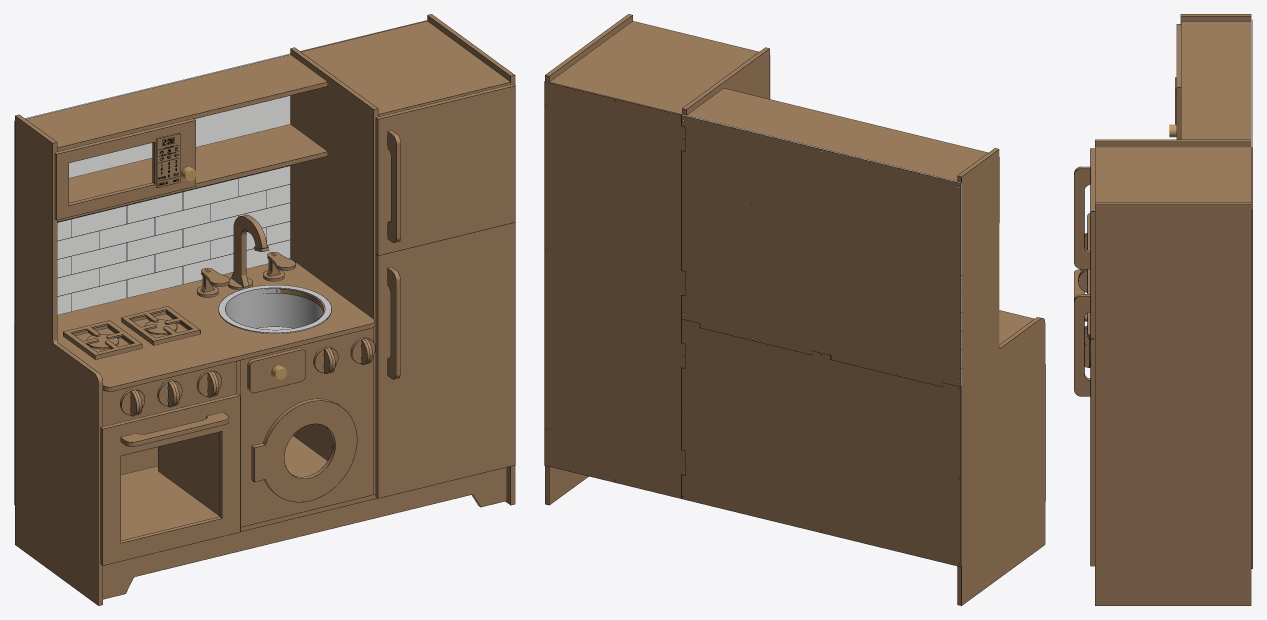
File: modelo-ar.glb
3 views of the same model, side by side, from view 1: azimuth 30°, elevation 25°; view 2: azimuth 150°, elevation 25°; view 3: azimuth 270°, elevation 25° (orthographic). The views are drawn at different scales.
Visible parts, largest first — view 1: Pta Heladera Inf, lateral izq, fondo alzada, Pta Heladera Sup, lateral med, Tapa, Frente Lavarropas, base alzada, estante heladera, Pta Horno, zocalo, techo alzada (+26 smaller); view 2: fondo alzada, fondo heladera, fondo bajo, lateral izq, estante heladera, base alzada, lateral med, lateral der, fondo heladera_Bordes, fondo bajo_Bordes, fondo alzada_Bordes, lateral izq_Bordes; view 3: lateral der, estante heladera, base alzada, manija 2 (1), manija 2, lateral der_Bordes, lateral med, Pta Heladera Inf, fondo heladera, Pta Heladera Sup, lateral izq, Pta Alzada (+5 smaller).
Boxes of the visible parts, x1=… form: Pta Heladera Inf: x1=376, y1=222, x2=515, y2=498; lateral izq: x1=15, y1=115, x2=102, y2=605; fondo alzada: x1=14, y1=54, x2=290, y2=324; Pta Heladera Sup: x1=376, y1=84, x2=515, y2=255; lateral med: x1=290, y1=48, x2=377, y2=494; Tapa: x1=57, y1=258, x2=374, y2=391; Frente Lavarropas: x1=240, y1=327, x2=373, y2=526; base alzada: x1=26, y1=54, x2=327, y2=151; estante heladera: x1=301, y1=21, x2=510, y2=116; Pta Horno: x1=100, y1=394, x2=239, y2=565; zocalo: x1=103, y1=467, x2=506, y2=598; techo alzada: x1=57, y1=124, x2=327, y2=221; fondo alzada: x1=681, y1=114, x2=961, y2=386; fondo heladera: x1=544, y1=81, x2=685, y2=498; fondo bajo: x1=681, y1=319, x2=961, y2=566; lateral izq: x1=957, y1=148, x2=1044, y2=605; estante heladera: x1=550, y1=21, x2=758, y2=114; base alzada: x1=687, y1=88, x2=987, y2=181; lateral med: x1=682, y1=47, x2=769, y2=115; lateral der: x1=545, y1=14, x2=632, y2=504; fondo heladera_Bordes: x1=544, y1=81, x2=685, y2=498; fondo bajo_Bordes: x1=681, y1=318, x2=961, y2=566; fondo alzada_Bordes: x1=681, y1=114, x2=961, y2=386; lateral izq_Bordes: x1=957, y1=148, x2=1045, y2=605; lateral der: x1=1095, y1=202, x2=1250, y2=605; estante heladera: x1=1095, y1=147, x2=1250, y2=202; base alzada: x1=1181, y1=21, x2=1250, y2=139; manija 2 (1): x1=1074, y1=294, x2=1090, y2=396; manija 2: x1=1074, y1=166, x2=1090, y2=268; lateral der_Bordes: x1=1095, y1=202, x2=1251, y2=605; lateral med: x1=1095, y1=140, x2=1250, y2=147; Pta Heladera Inf: x1=1091, y1=339, x2=1094, y2=565; fondo heladera: x1=1251, y1=147, x2=1252, y2=568; Pta Heladera Sup: x1=1091, y1=148, x2=1094, y2=338; lateral izq: x1=1181, y1=14, x2=1250, y2=21; Pta Alzada: x1=1177, y1=24, x2=1180, y2=139.
Size of the model in its own units: 0.8949 by 0.8808 by 0.3555.
